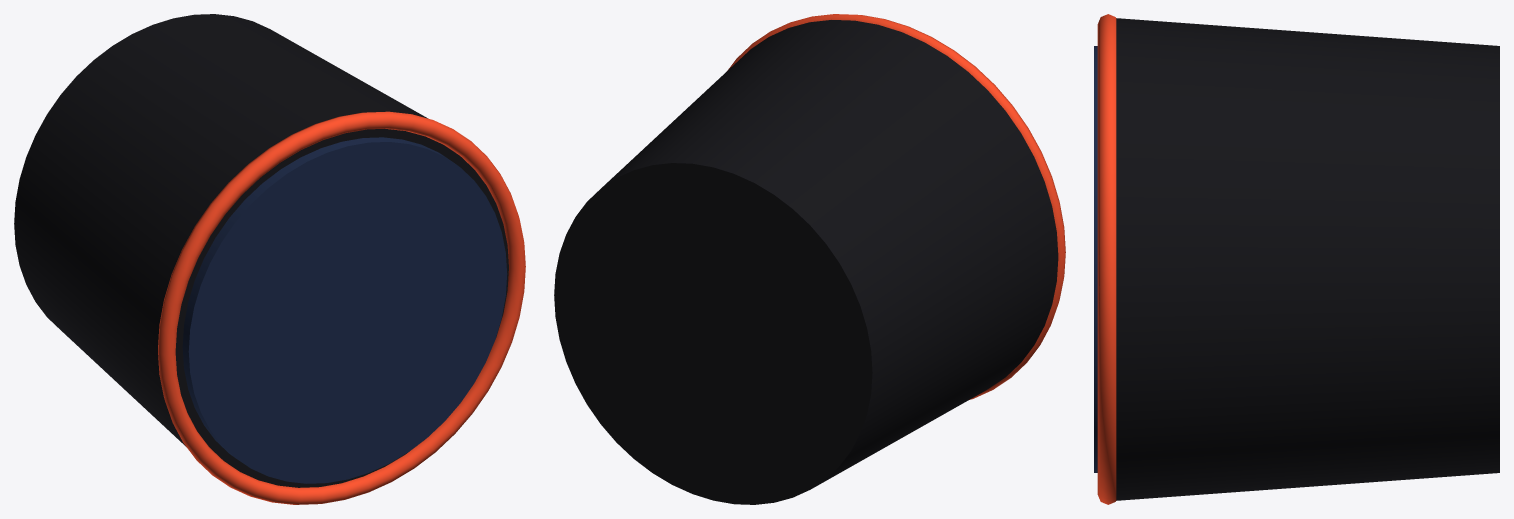
File: 04_Lens_Barrel.glb
3 views of the same model, side by side, from view 1: azimuth 30°, elevation 25°; view 2: azimuth 150°, elevation 25°; view 3: azimuth 270°, elevation 25° (orthographic). The views are drawn at different scales.
Parts seen in each view (by area): view 1: Lens_Barrel.Lens_Coating, Lens_Barrel.Rubber_Black, Lens_Barrel.Enclave_Orange; view 2: Lens_Barrel.Rubber_Black, Lens_Barrel.Enclave_Orange; view 3: Lens_Barrel.Rubber_Black, Lens_Barrel.Enclave_Orange, Lens_Barrel.Lens_Coating.
Part boxes in pixels (left/top/right/bottom): Lens_Barrel.Lens_Coating: left=182, top=137, right=507, bottom=483; Lens_Barrel.Rubber_Black: left=14, top=14, right=508, bottom=487; Lens_Barrel.Enclave_Orange: left=158, top=111, right=525, bottom=504; Lens_Barrel.Rubber_Black: left=554, top=20, right=1058, bottom=504; Lens_Barrel.Enclave_Orange: left=727, top=14, right=1065, bottom=399; Lens_Barrel.Rubber_Black: left=1116, top=18, right=1499, bottom=500; Lens_Barrel.Enclave_Orange: left=1097, top=14, right=1116, bottom=504; Lens_Barrel.Lens_Coating: left=1094, top=46, right=1097, bottom=472.
Size of the model in its own units: 0.0224 by 0.0224 by 0.0185.
